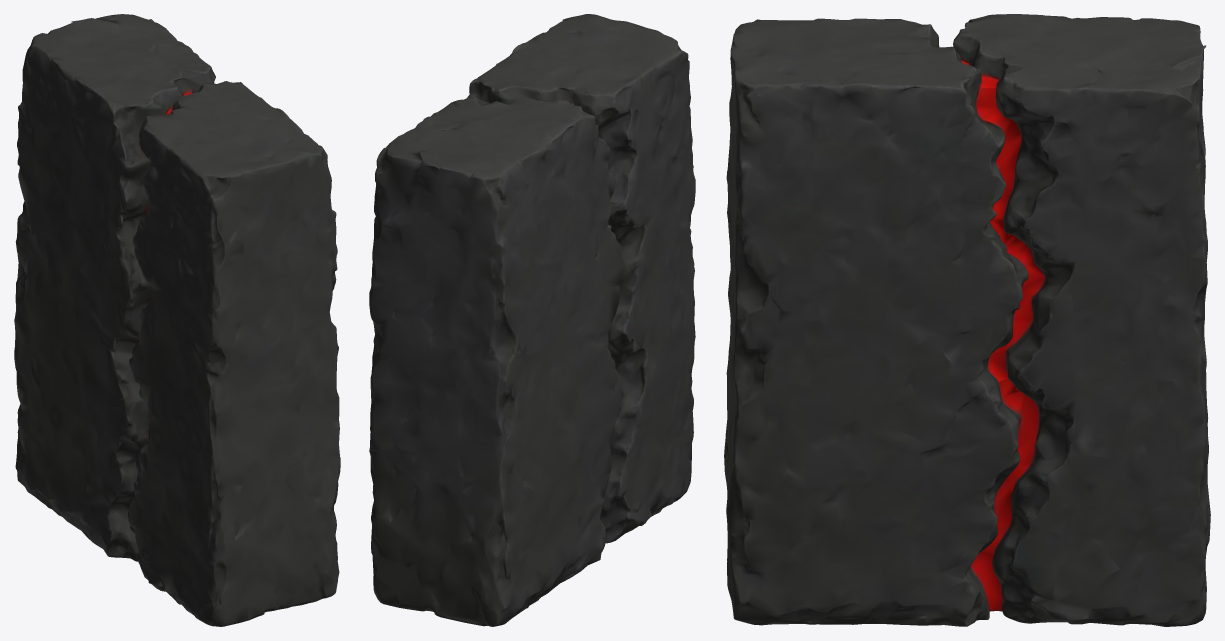
Rendered from paso-3.glb.
The picture shows the model from 3 angles, left to right: view 1: azimuth 30°, elevation 25°; view 2: azimuth 150°, elevation 25°; view 3: azimuth 270°, elevation 25°; orthographic projection. The views are drawn at different scales.
Visible parts, largest first — view 1: tripo_node_d4c3766a-7504-4e1f-b2da-5b5aeeff19e0; view 2: tripo_node_d4c3766a-7504-4e1f-b2da-5b5aeeff19e0; view 3: tripo_node_d4c3766a-7504-4e1f-b2da-5b5aeeff19e0.
Part boxes in pixels (x1,y1,x2,y2): tripo_node_d4c3766a-7504-4e1f-b2da-5b5aeeff19e0: (14,14,340,626); tripo_node_d4c3766a-7504-4e1f-b2da-5b5aeeff19e0: (369,14,695,626); tripo_node_d4c3766a-7504-4e1f-b2da-5b5aeeff19e0: (724,14,1210,626).
Size of the model in its own units: 0.3301 by 0.9998 by 0.8122.
Materials: 1 (1 with a texture image).
